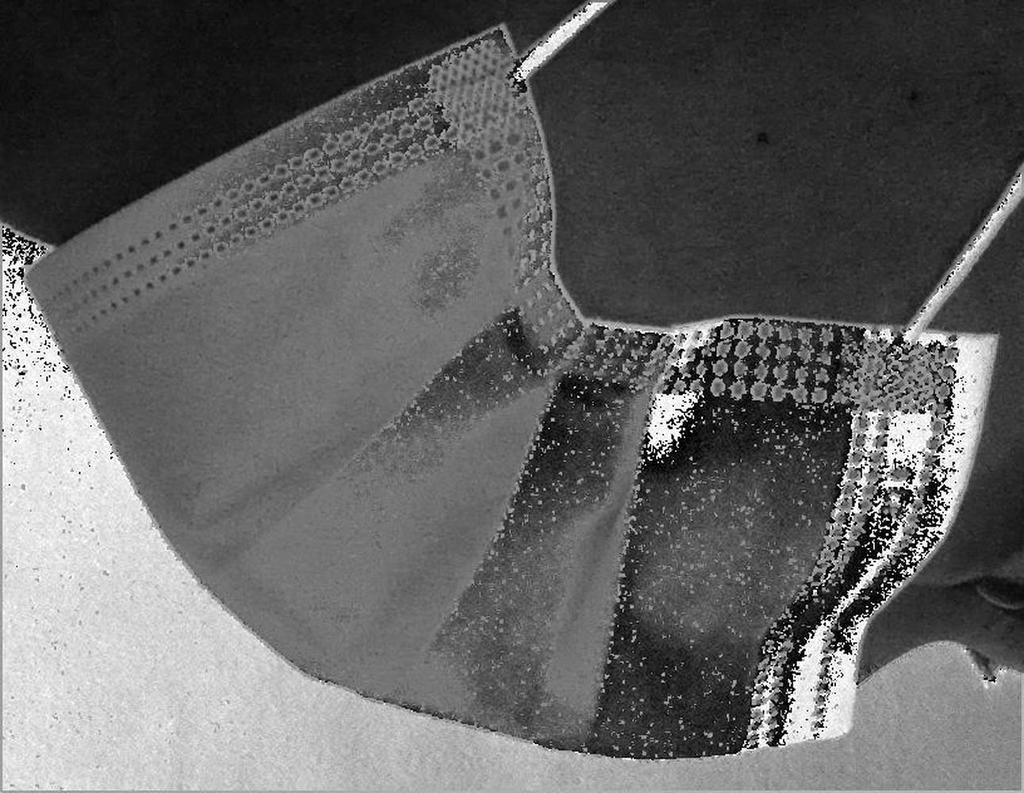Low GSM: (22, 20, 1006, 769)
